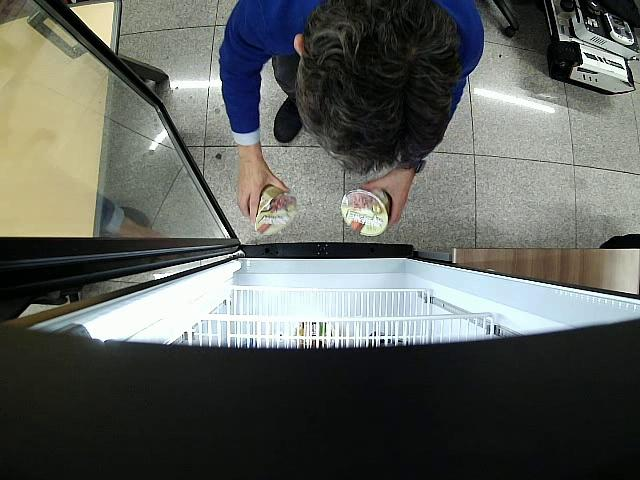00_hand: (237, 163, 291, 222), (360, 170, 410, 230)
03_chapagetti_L: (341, 187, 392, 236), (255, 185, 298, 236)
